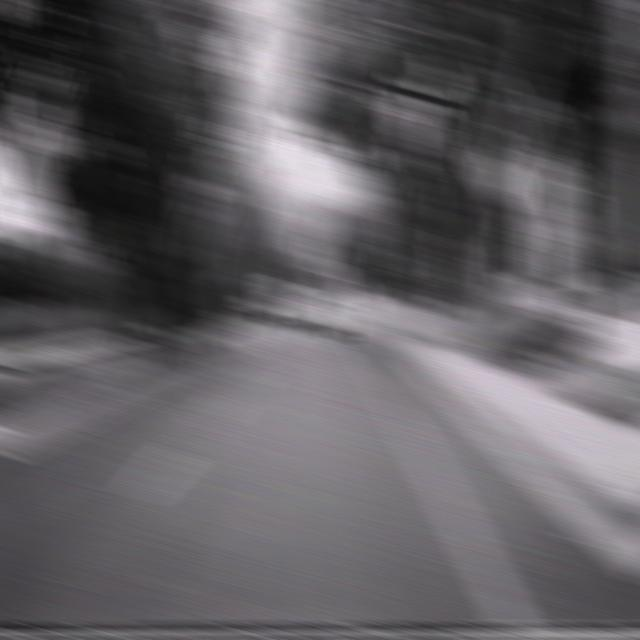pedestrianCrossing: (477, 149, 524, 210)
